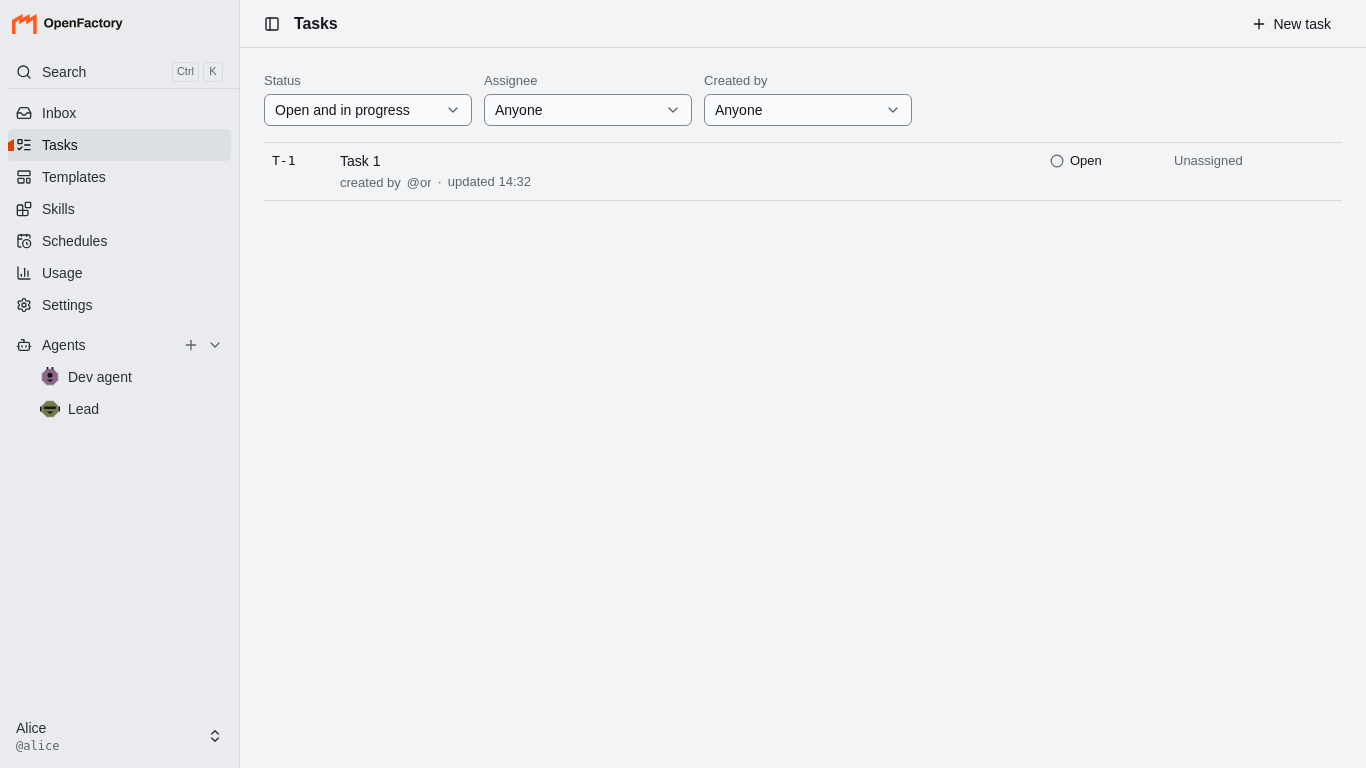
it: the creator filter lists Anyone and Me first, then agents
Later steps or results of the test are not shown.
Check: the link with aria-label "T-1," is shown, box [272,153,380,169]
Click the dropdown named "Created by": point(808, 110) [704,94,912,126]
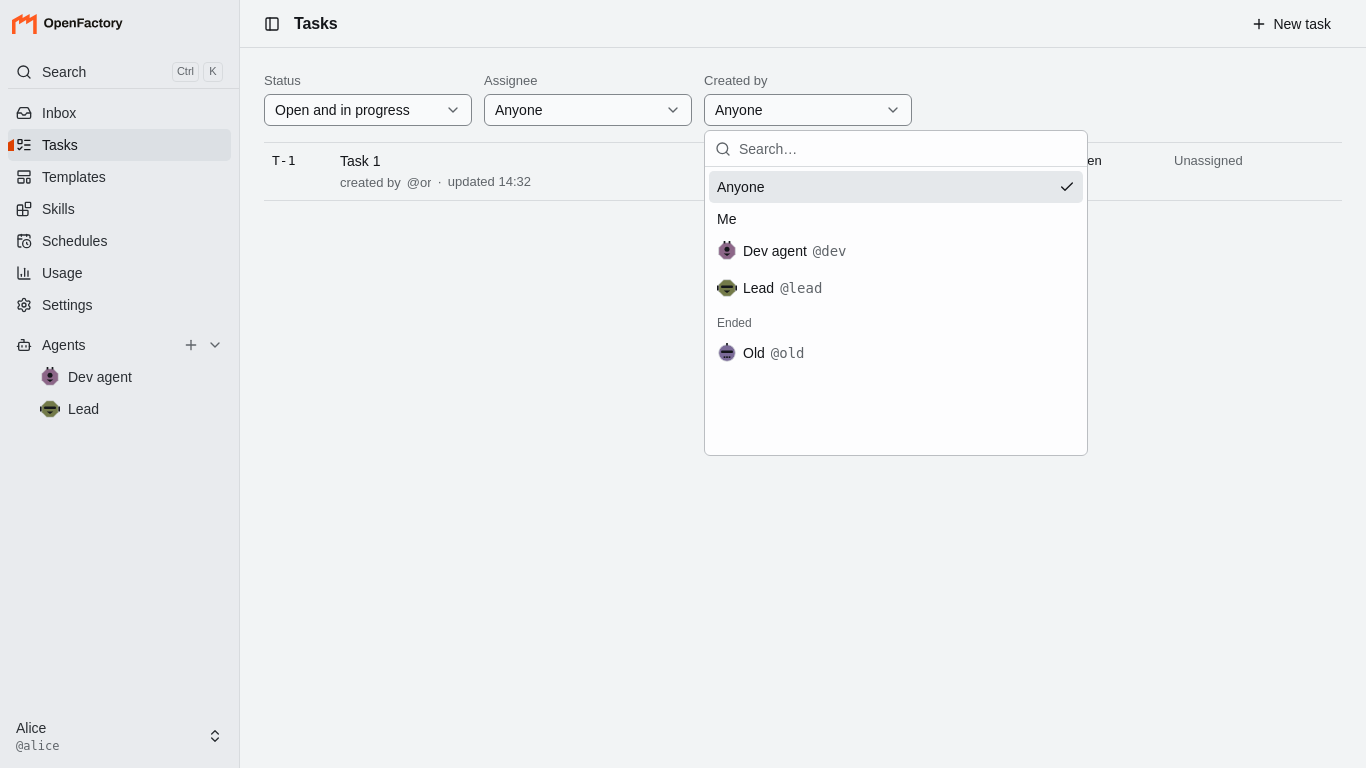
Check: the list "Anyone Me Dev agent @d ev Lead @le ad Ended Old @o ld" is shown, box [705,167,1087,455]
